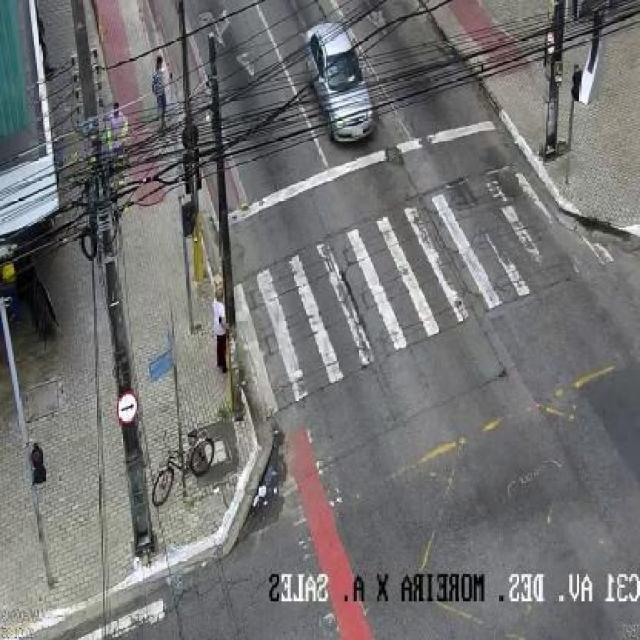Car: (289, 18, 388, 154)
